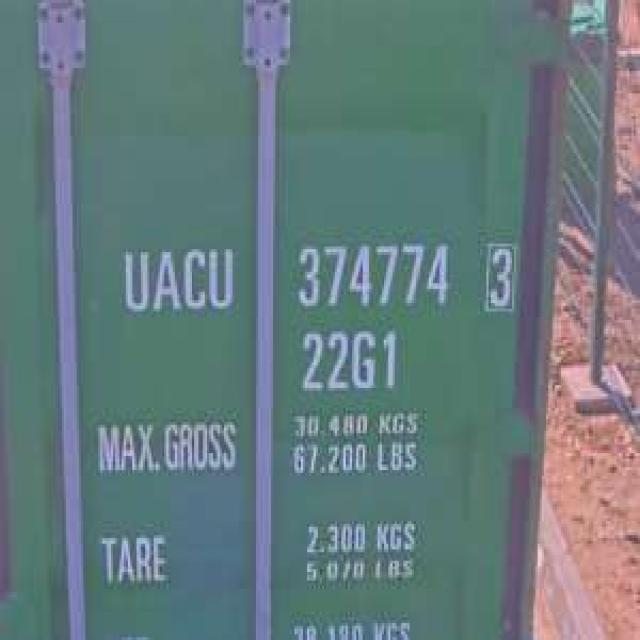dv: (478, 237, 521, 312)
owner: (119, 239, 239, 322)
serial: (287, 238, 458, 315)
size: (290, 323, 404, 396)
